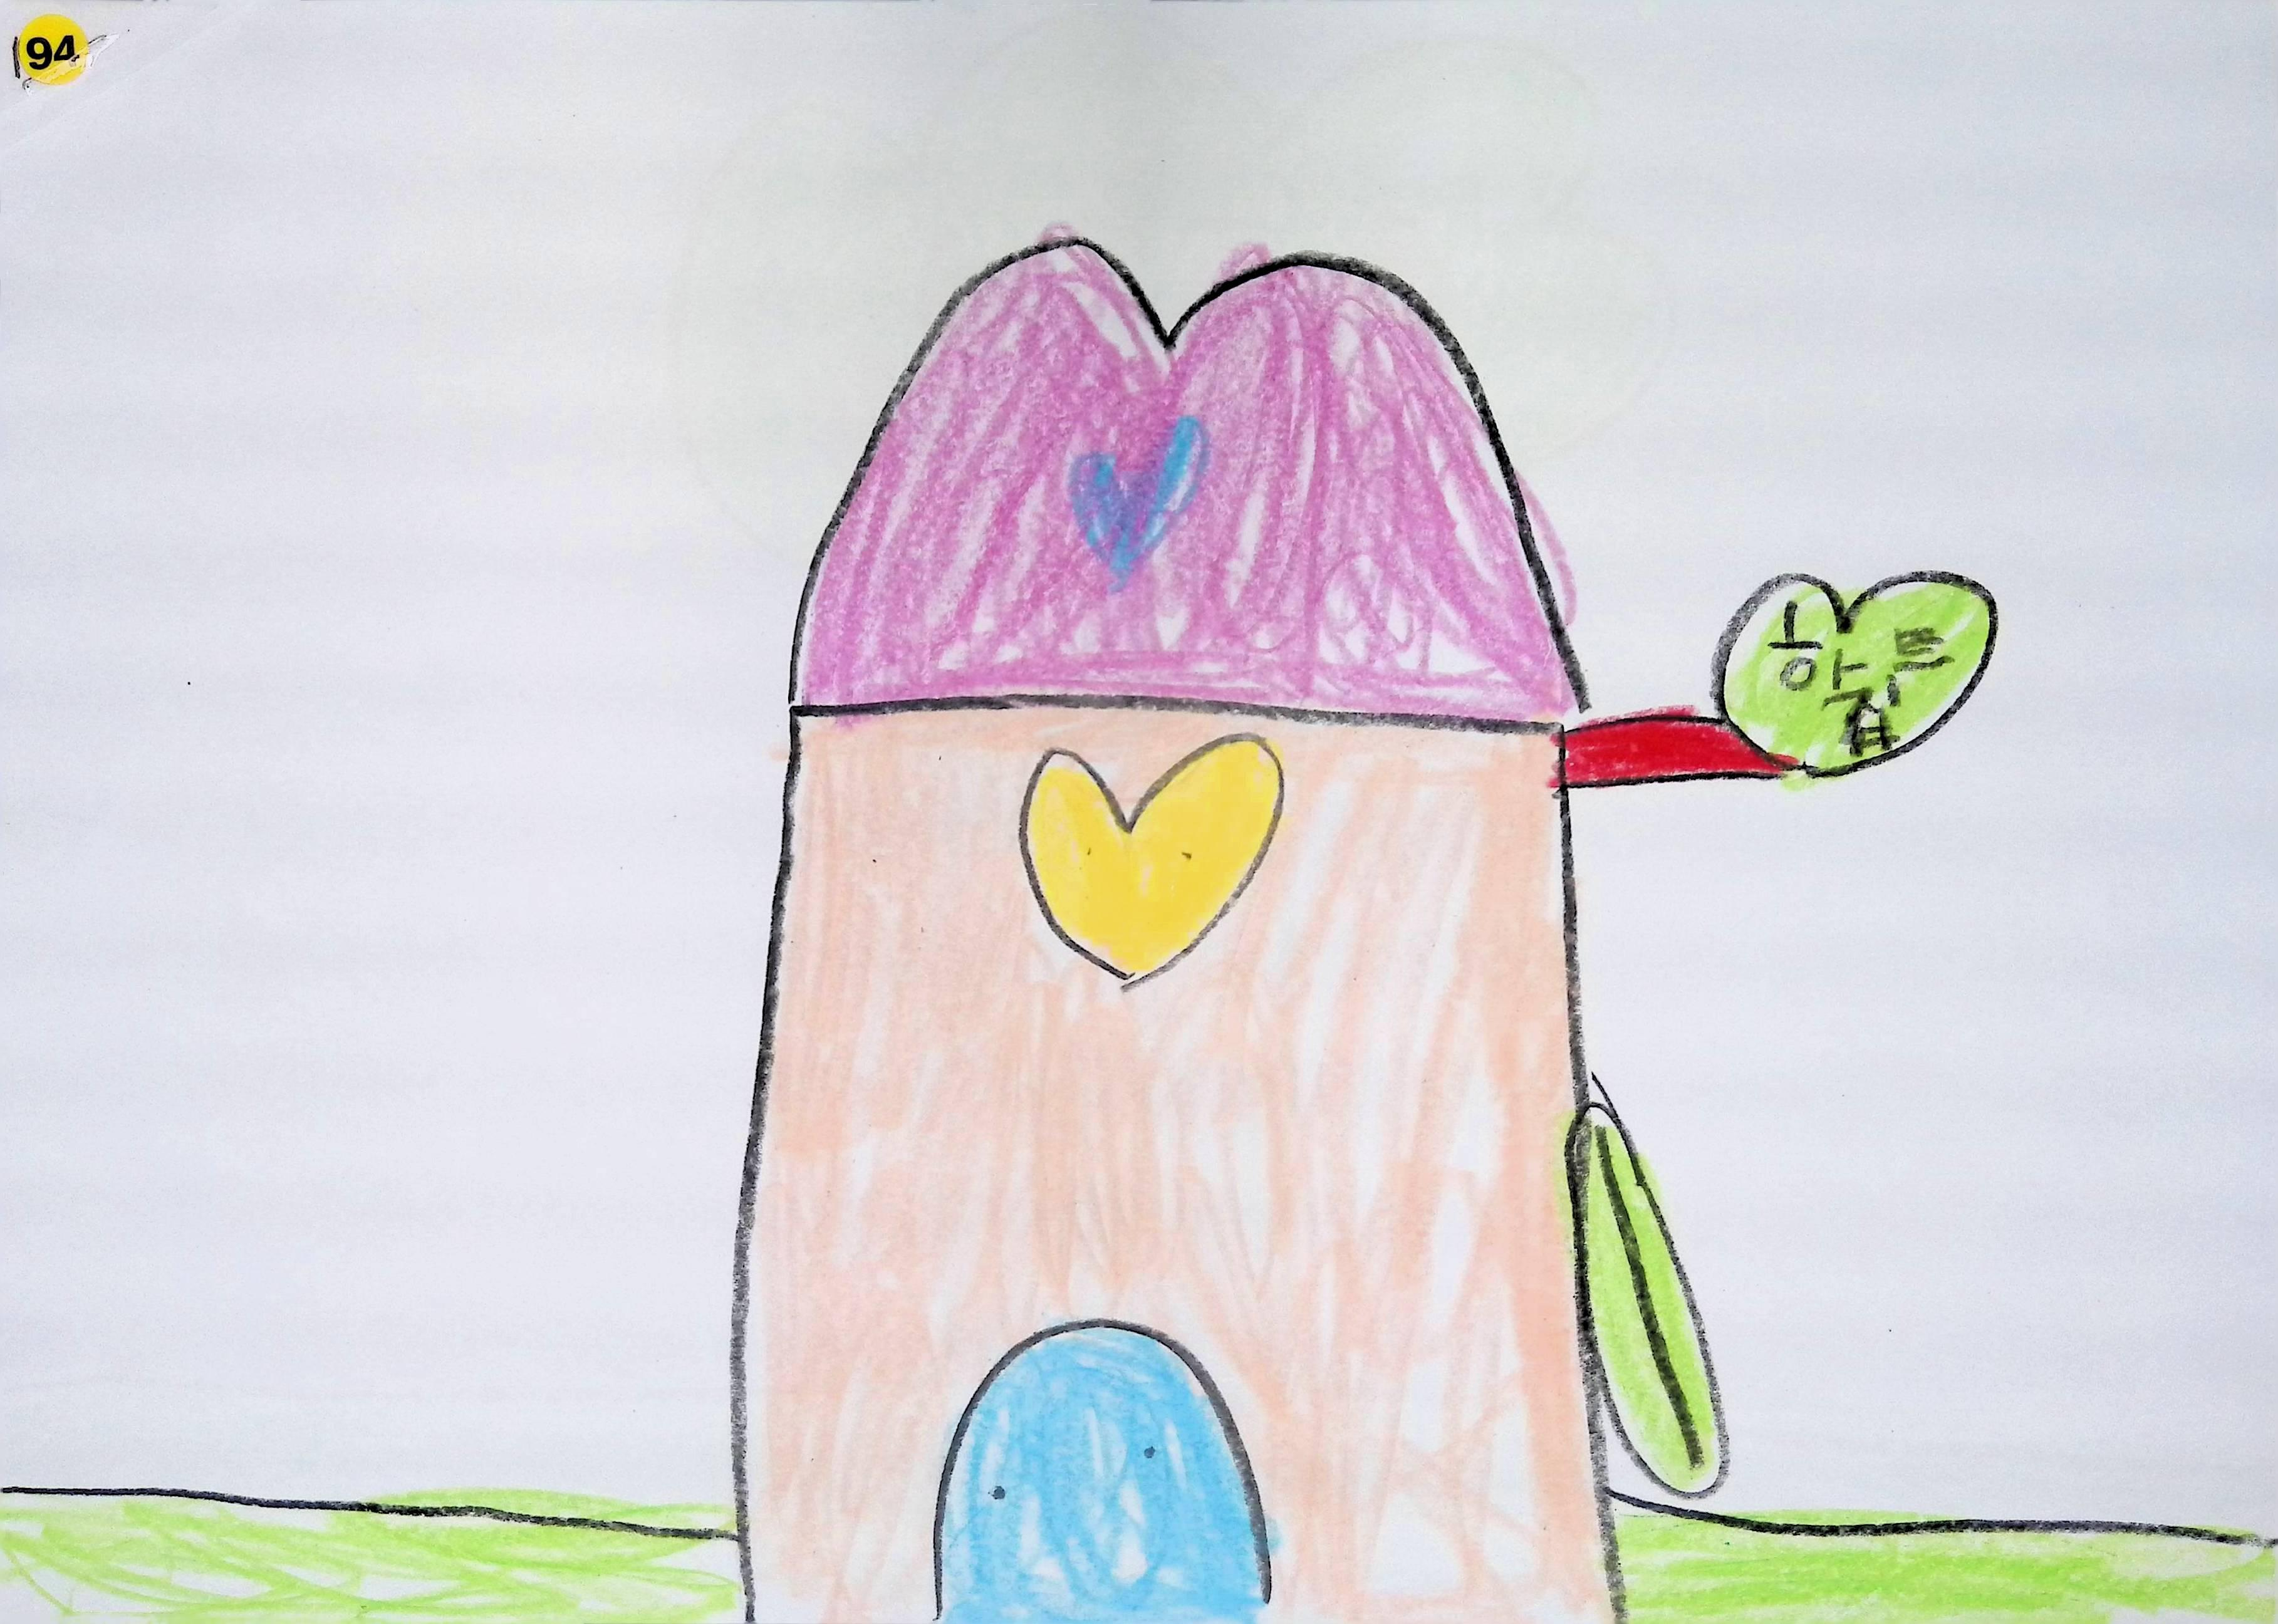door: (933, 1322, 1273, 1624)
house: (735, 236, 1619, 1622)
roof: (793, 237, 1582, 722)
wall: (738, 701, 1615, 1622)
